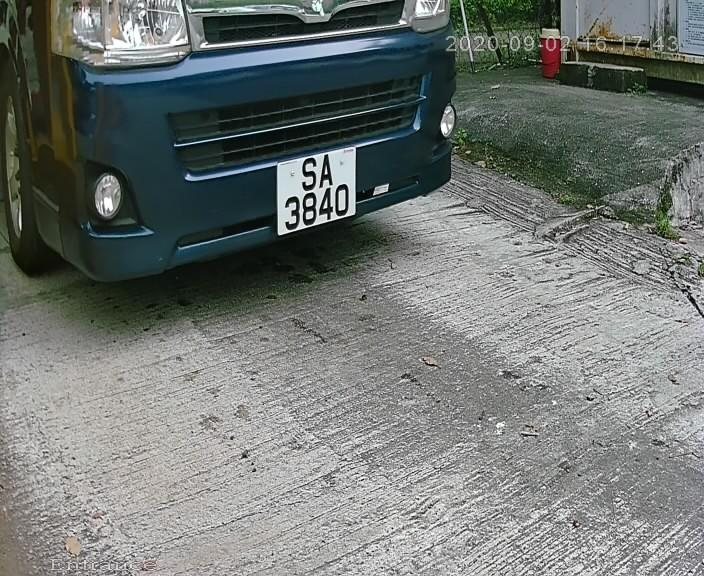Car: (26, 11, 525, 327)
License Plate: (268, 139, 368, 235)
